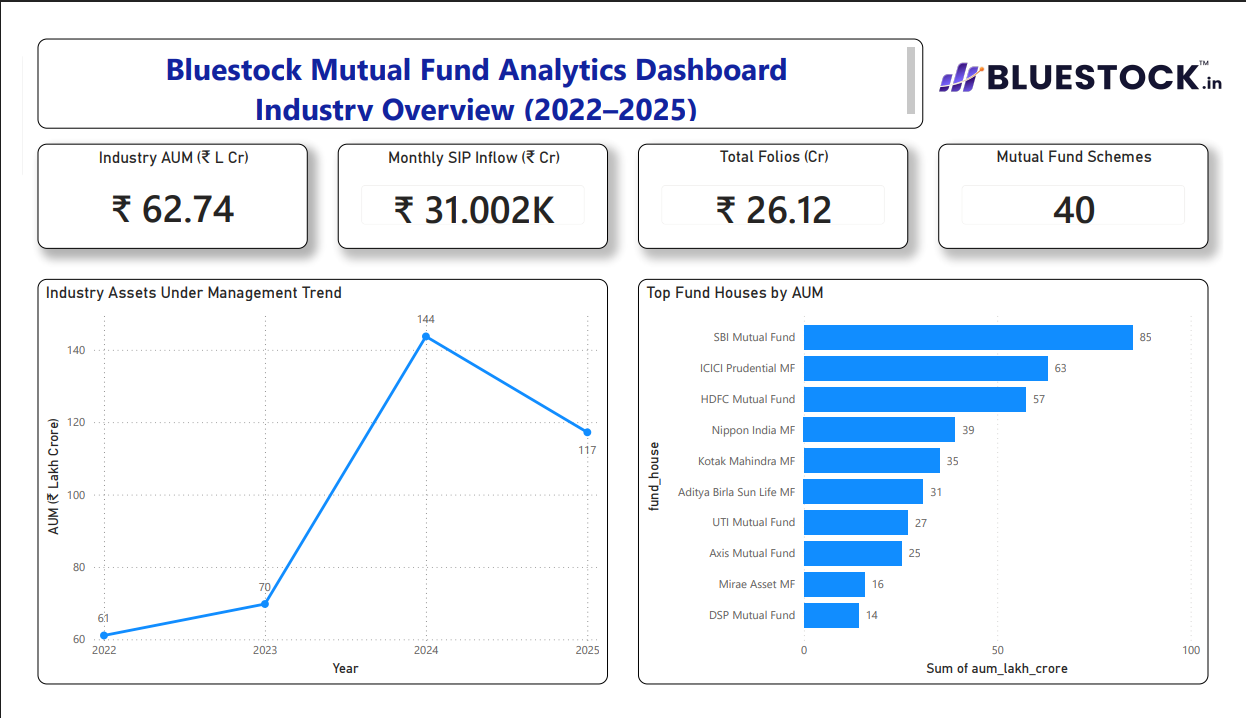

What the dashboard file says about the page in this screenshot:
{"tool":"powerbi","page":{"name":"Industry Overview","canvas":[1280,720],"ordinal":0},"visuals":[{"type":"cardVisual","title":"Industry AUM (₹ L Cr)","fields":{"Data":["_Measures.Latest AUM"]},"box":[16,128,288,112],"z":0},{"type":"cardVisual","title":"Monthly SIP Inflow (₹ Cr)","fields":{"Data":["_Measures.Latest SIP Inflow"]},"box":[336,128,288,112],"z":1000},{"type":"cardVisual","title":"Total Folios (Cr)","fields":{"Data":["_Measures.Latest Folios"]},"box":[656,128,288,112],"z":2000},{"type":"cardVisual","title":"Mutual Fund Schemes","fields":{"Data":["_Measures.Total Schemes"]},"box":[976,128,288,112],"z":3000},{"type":"lineChart","title":"Industry Assets Under Management Trend","fields":{"Category":["AUM.date.Variation.Date Hierarchy.Year","AUM.date.Variation.Date Hierarchy.Quarter","AUM.date.Variation.Date Hierarchy.Month","AUM.date.Variation.Date Hierarchy.Day"],"Y":["Sum(AUM.aum_lakh_crore)"]},"box":[16,272,608,432],"z":4000},{"type":"clusteredBarChart","title":"Top Fund Houses by AUM","fields":{"Category":["AUM.fund_house"],"Y":["Sum(AUM.aum_lakh_crore)"]},"box":[656,272,608,432],"z":5000},{"type":"textbox","box":[16,16,944,96],"z":6000},{"type":"image","box":[976,0,304,112],"z":7000}]}

Visuals, with their boxes in screenshot pixels (x1, y1, x2, y2), scaled from the page's 1280x720 canvas onto the 1246x718 screenshot:
"Industry AUM (₹ L Cr)" cardVisual: locate(16, 128, 296, 239)
"Monthly SIP Inflow (₹ Cr)" cardVisual: locate(327, 128, 607, 239)
"Total Folios (Cr)" cardVisual: locate(639, 128, 919, 239)
"Mutual Fund Schemes" cardVisual: locate(950, 128, 1230, 239)
"Industry Assets Under Management Trend" lineChart: locate(16, 271, 607, 702)
"Top Fund Houses by AUM" clusteredBarChart: locate(639, 271, 1230, 702)
textbox: locate(16, 16, 934, 112)
image: locate(950, 0, 1245, 112)
